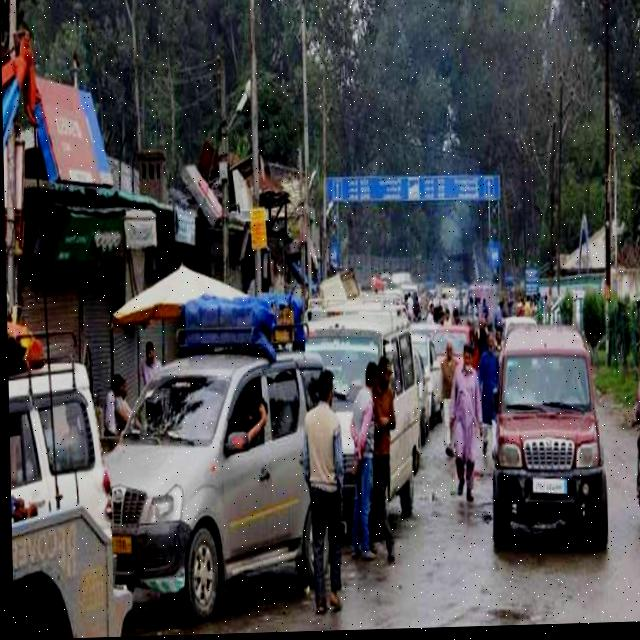plate: (528, 476, 570, 504), (109, 533, 133, 559)
